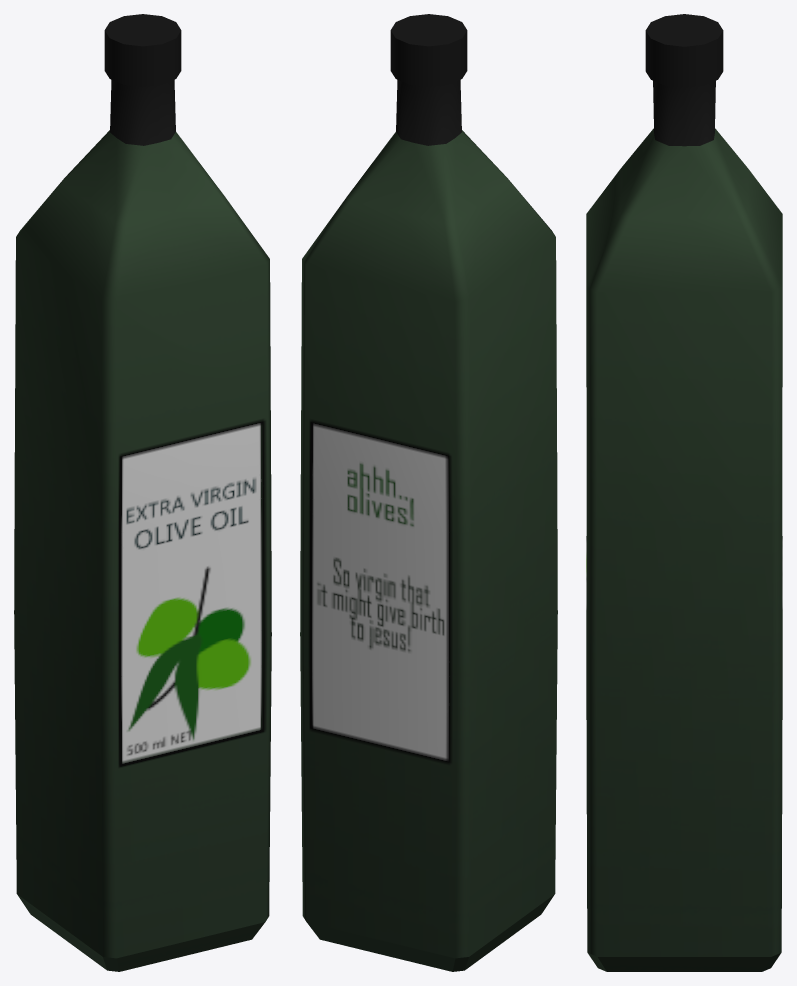
The model's file is OliveOil.fbx.
3 views of the same model, side by side, from view 1: azimuth 30°, elevation 25°; view 2: azimuth 150°, elevation 25°; view 3: azimuth 270°, elevation 25° (orthographic).
Visible parts, largest first — view 1: OliveOil; view 2: OliveOil; view 3: OliveOil.
Boxes of the visible parts, left/top/right/bottom form: OliveOil: left=14, top=14, right=271, bottom=971; OliveOil: left=300, top=14, right=557, bottom=971; OliveOil: left=586, top=14, right=782, bottom=971.
Size of the model in its own units: 1.49 by 7.47 by 1.47.
